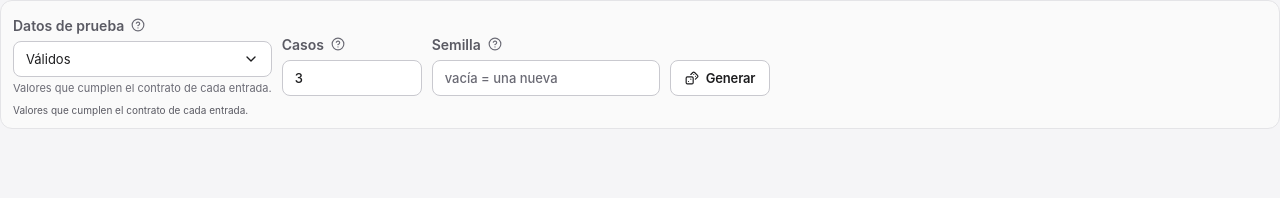
Test case: generación de datos de prueba › devuelve la semilla al formulario, que es lo que hace repetible la tanda
This screenshot has width=1280, height=198.
Click the button "Generar" at [720, 78], box [670,60,770,96]
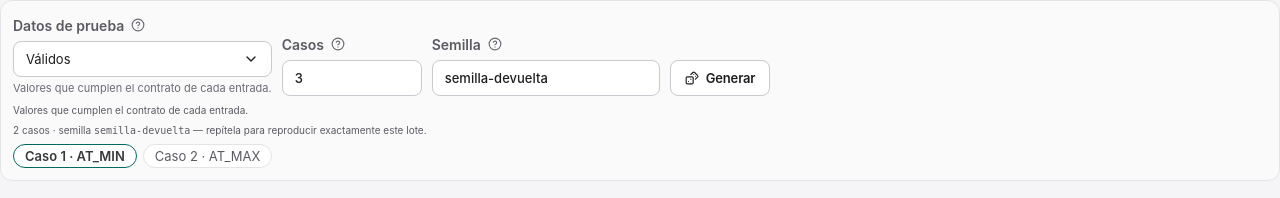
Check: the field labelled "Semilla" holds "semilla-devuelta", box [432,60,660,96]
